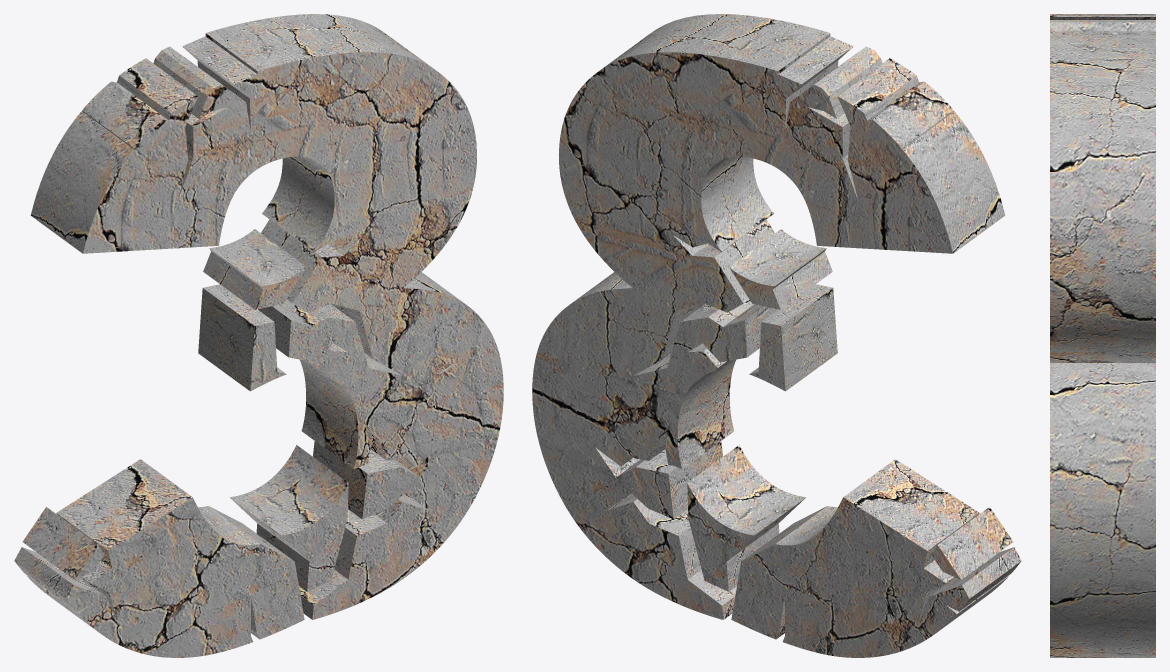
The picture shows the model from 3 angles, left to right: view 1: azimuth 30°, elevation 25°; view 2: azimuth 150°, elevation 25°; view 3: azimuth 270°, elevation 25°; orthographic projection.
Visible parts, largest first — view 1: 3; view 2: 3; view 3: 3.
Part boxes in pixels (box(x1,y1,x2,y2)): 3: box(14, 14, 503, 657); 3: box(532, 14, 1021, 657); 3: box(1050, 14, 1155, 657).
Bounding box in the file's own units: 72.6 × 90.9 × 15.
Materials: 1 (1 with a texture image).
